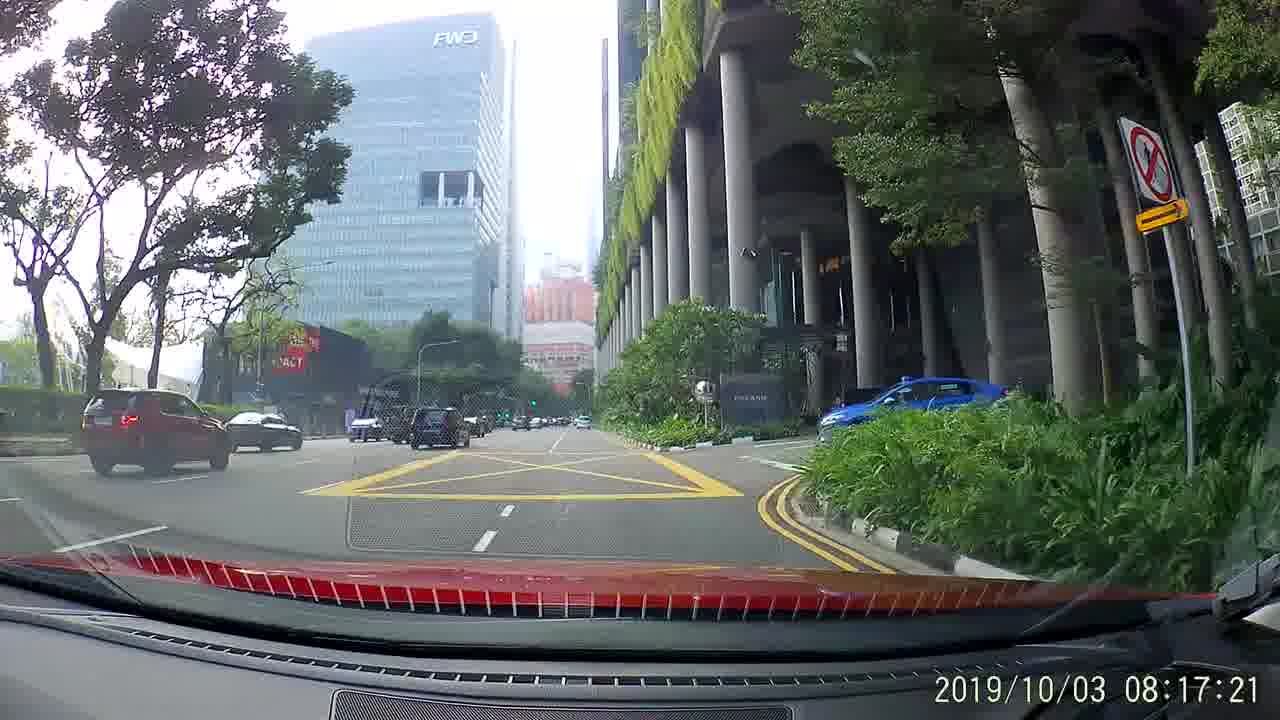car: (75, 388, 234, 476), (817, 376, 1015, 433), (219, 407, 308, 454), (408, 404, 475, 449), (345, 415, 387, 443), (511, 412, 531, 432), (573, 413, 592, 429)
